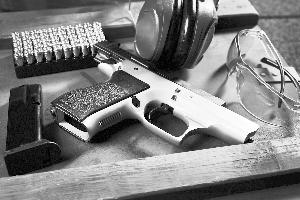handgun: (46, 41, 260, 148)
